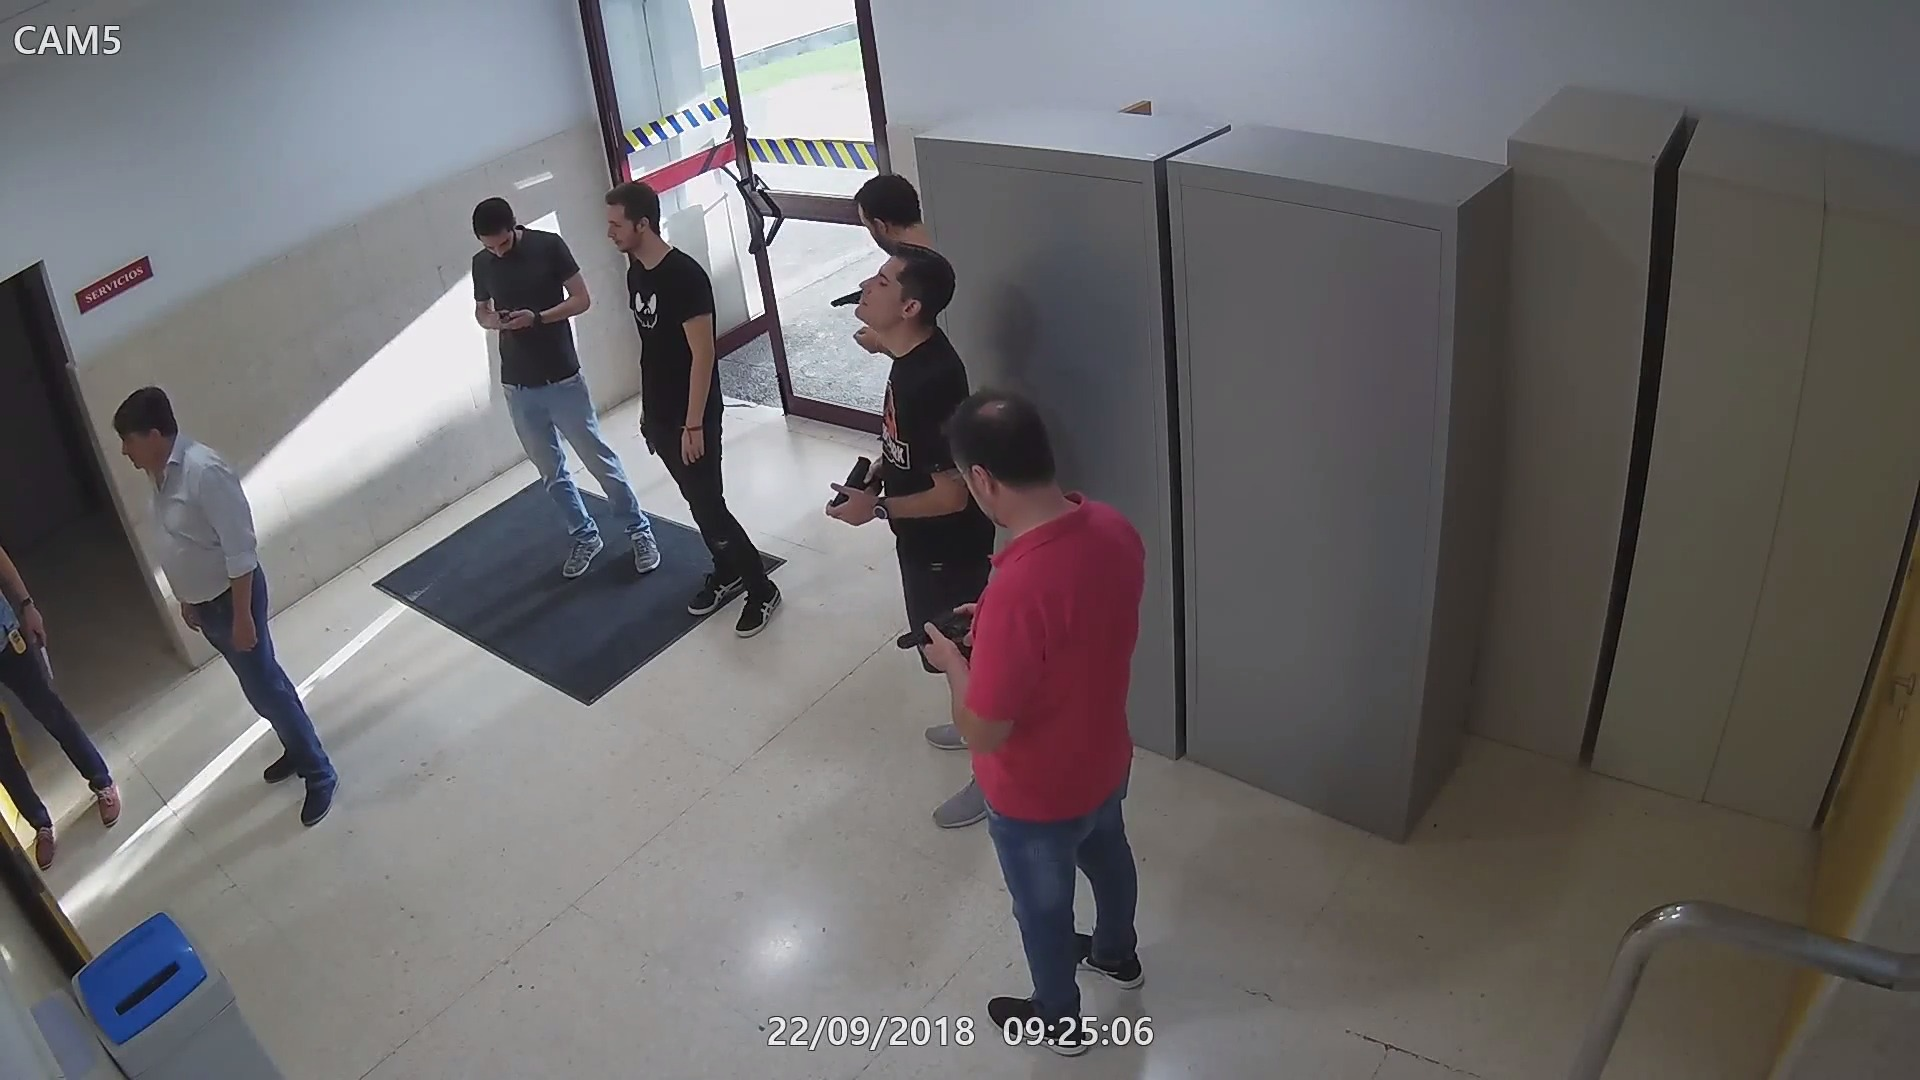Handgun: (891, 600, 986, 684), (822, 442, 885, 520), (477, 305, 539, 331), (634, 407, 661, 456), (825, 281, 864, 314)
Knife: (22, 597, 61, 688)
